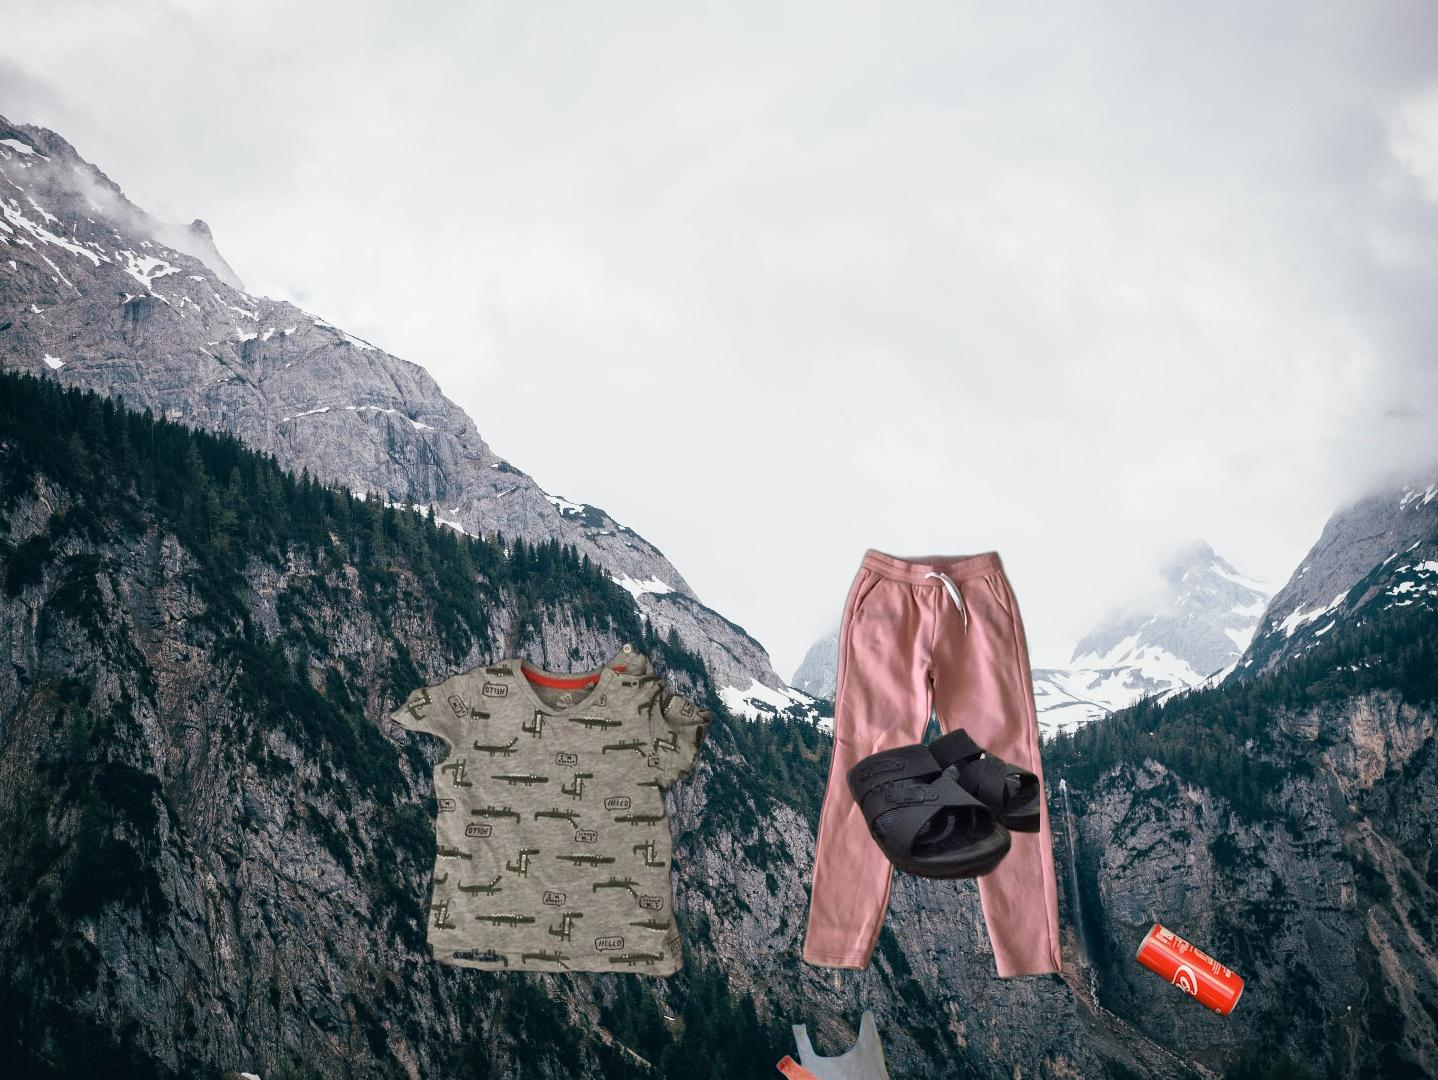clothes: (798, 545, 1066, 984), (384, 633, 716, 982)
metal-cans: (1131, 917, 1250, 1022)
plastic-bag: (729, 1007, 944, 1080)
shoes: (846, 725, 1040, 881)
